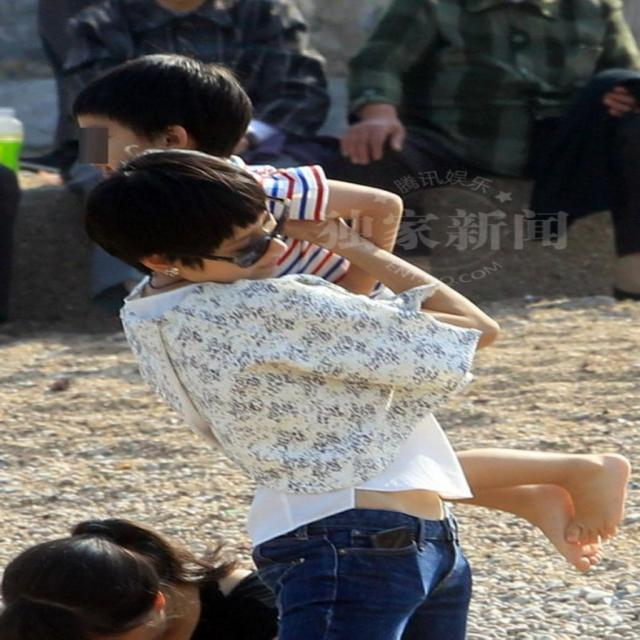nomask: (177, 196, 292, 281)
